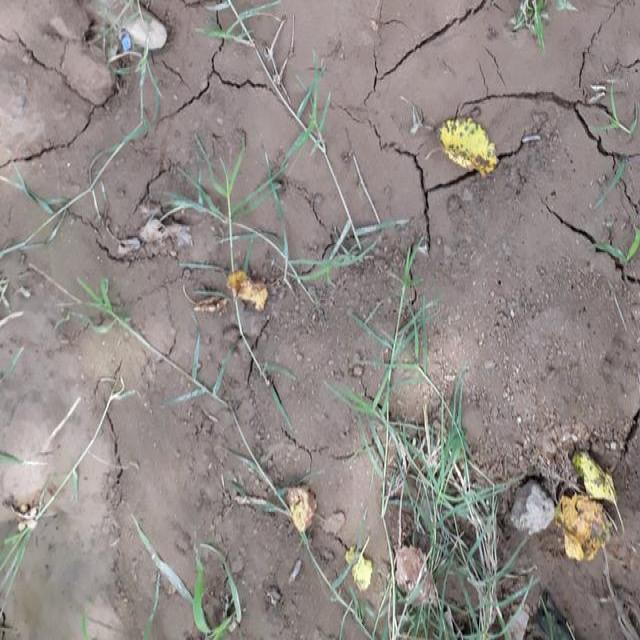weed: (164, 129, 412, 318)
